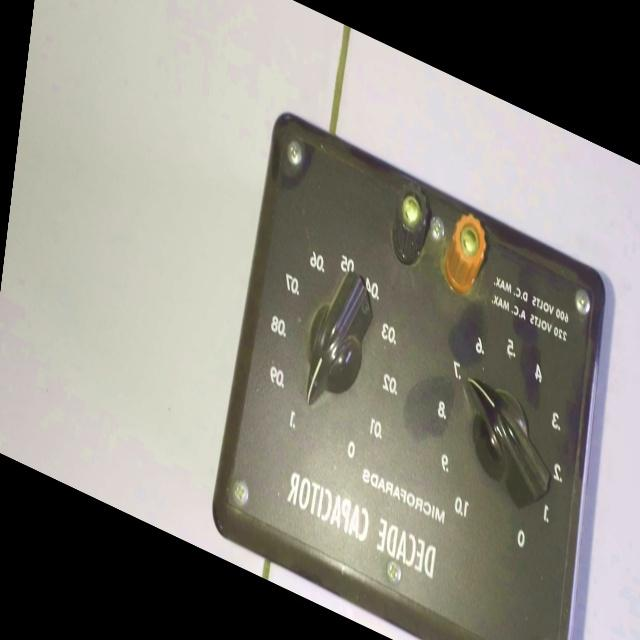Decade Capacitance Box: (202, 91, 624, 640)
